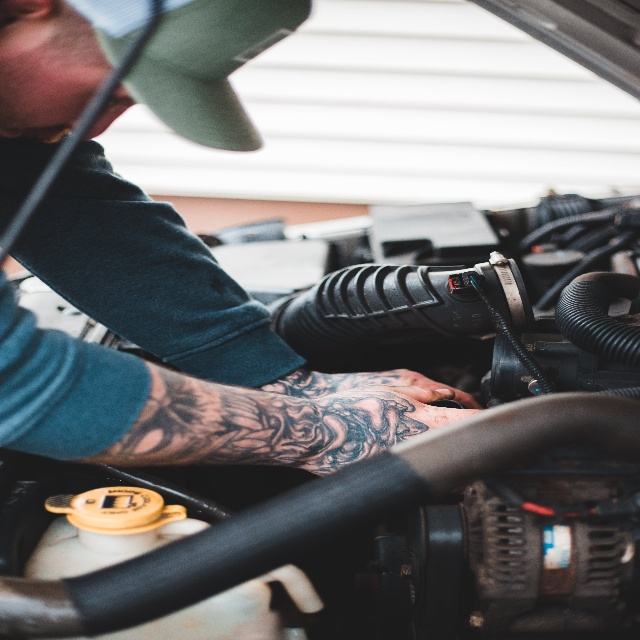Sin_guantes: (305, 384, 477, 474)
